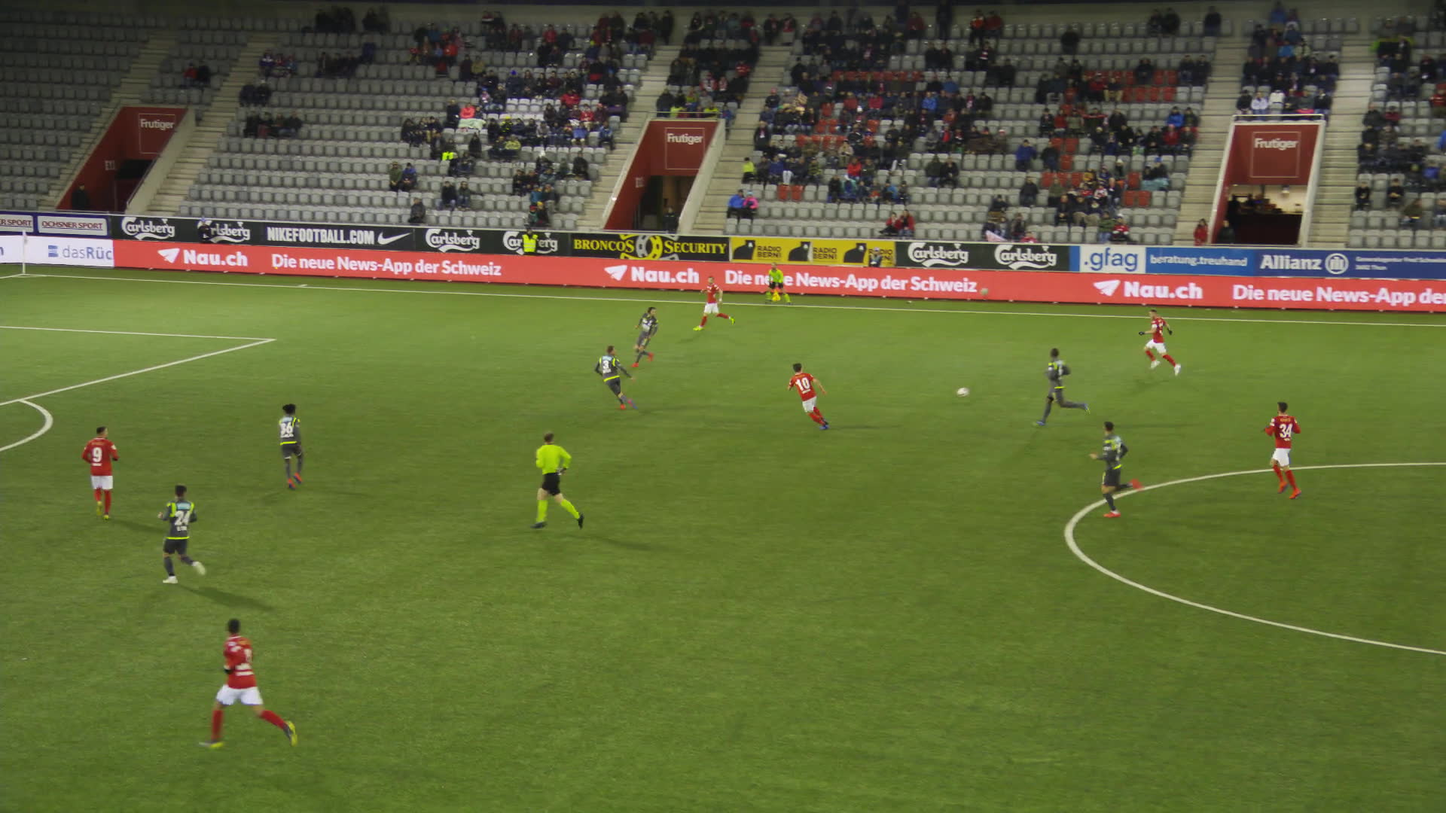ball: (956, 388, 969, 396)
player: (211, 619, 291, 758), (156, 481, 212, 582), (1093, 419, 1151, 516), (1260, 401, 1301, 498), (79, 424, 120, 519), (1042, 347, 1086, 426), (592, 345, 639, 415), (788, 361, 833, 430), (273, 404, 305, 487), (1138, 309, 1178, 375), (696, 275, 731, 333), (630, 305, 660, 366)
referee: (535, 430, 580, 534), (762, 260, 790, 304)
